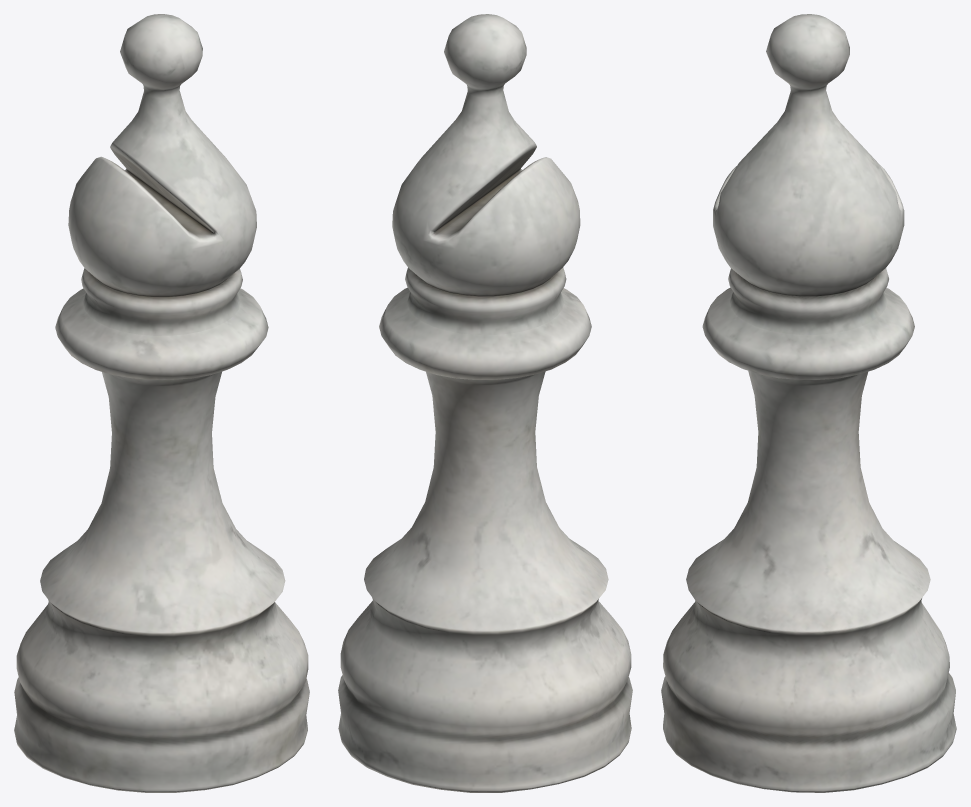
The model's file is chess-set-1k-piece-bishop-white-01.glb.
3 views of the same model, side by side, from view 1: azimuth 30°, elevation 25°; view 2: azimuth 150°, elevation 25°; view 3: azimuth 270°, elevation 25° (orthographic).
Visible parts, largest first — view 1: piece_bishop_white_01; view 2: piece_bishop_white_01; view 3: piece_bishop_white_01.
Part boxes in pixels (bbox=[...]): piece_bishop_white_01: bbox=[14, 14, 309, 792]; piece_bishop_white_01: bbox=[338, 14, 632, 792]; piece_bishop_white_01: bbox=[661, 14, 956, 792].
Size of the model in its own units: 0.0322 by 0.0858 by 0.0322.
Materials: 1 (1 with a texture image).
